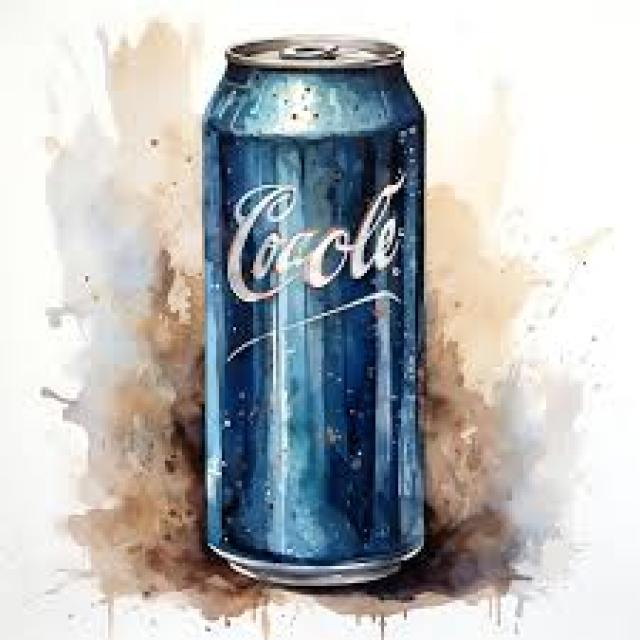Cans: (194, 22, 446, 592)
